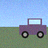vehicle: (19, 18, 46, 38)
